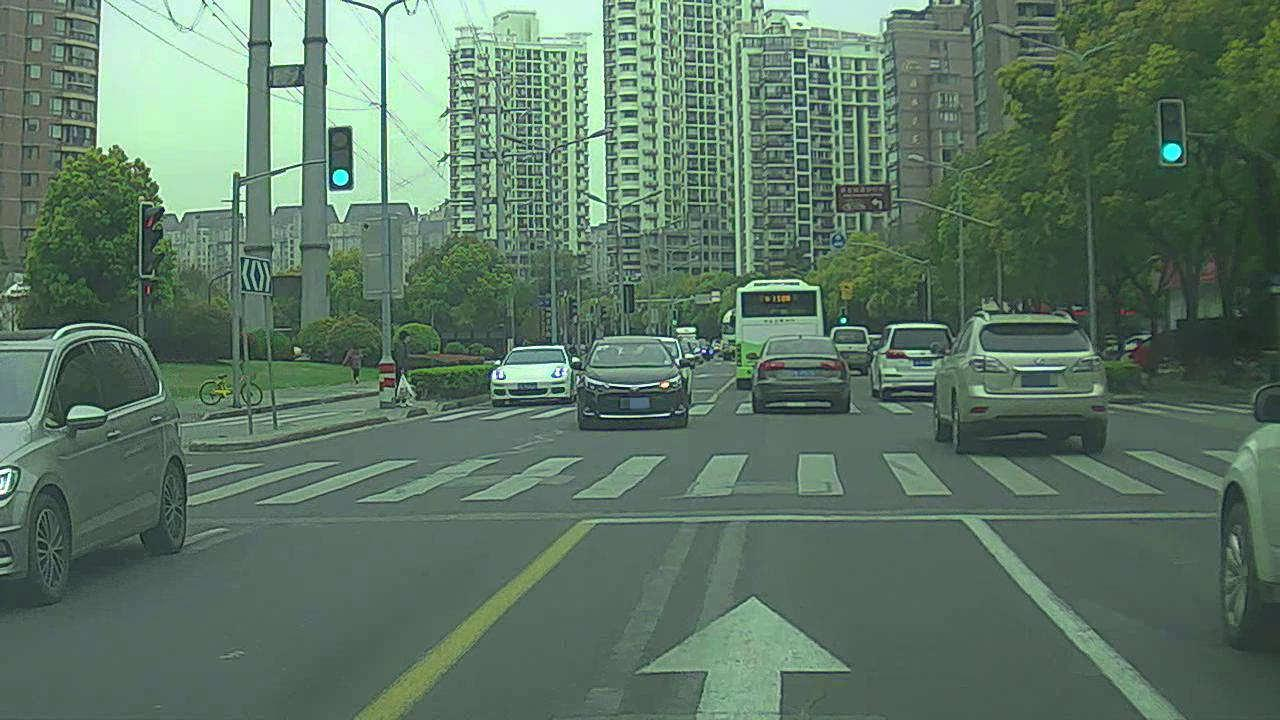traffic_light: (1159, 100, 1188, 169), (329, 127, 357, 188)
